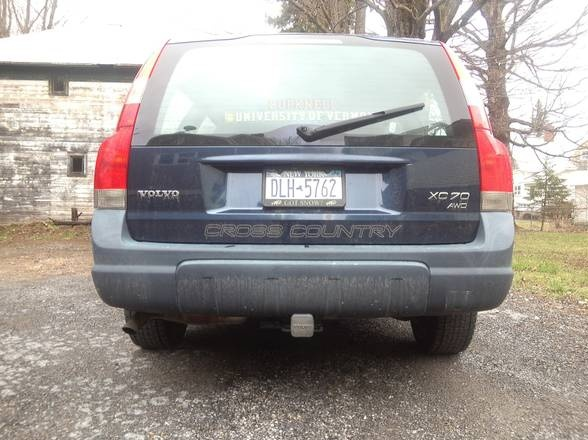volvo: (49, 16, 566, 370)
